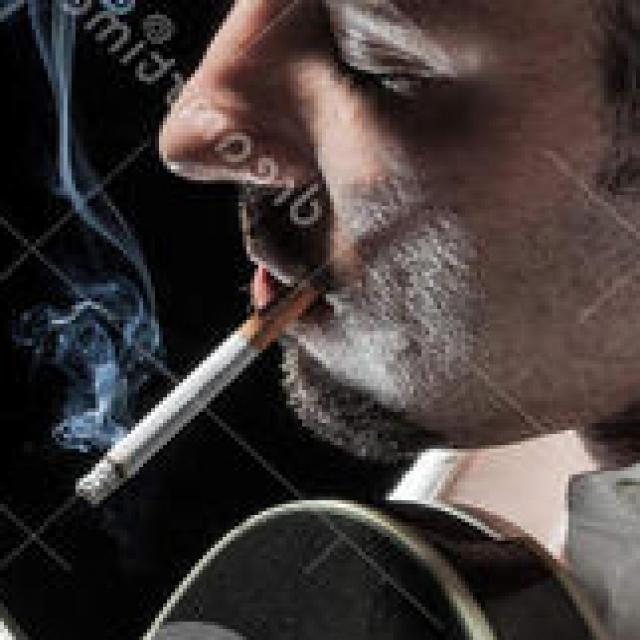smoking: (78, 279, 315, 504)
